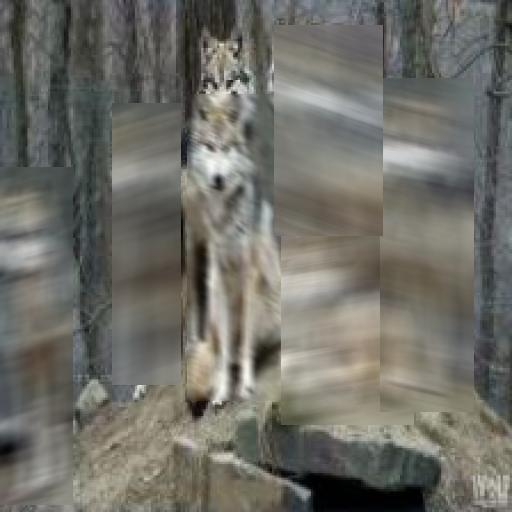wolf: (380, 78, 474, 412), (187, 94, 288, 401), (281, 201, 414, 425), (0, 167, 73, 505), (274, 25, 383, 236), (112, 103, 181, 385)
